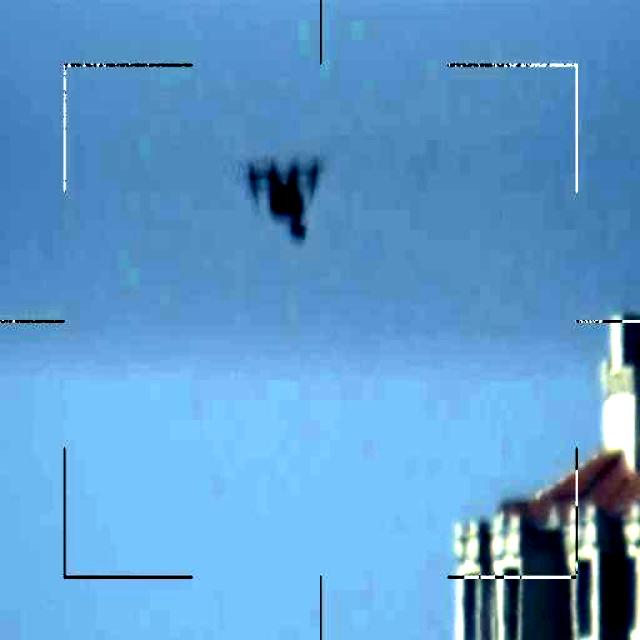bird: (245, 155, 326, 246)
